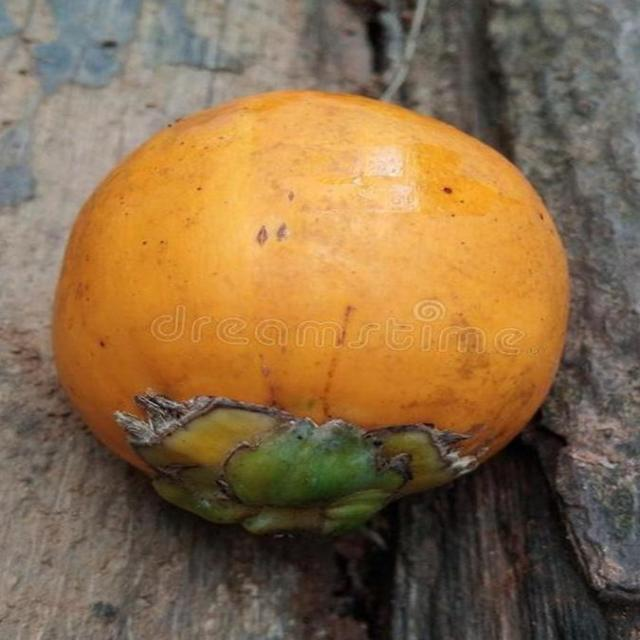good: (51, 90, 572, 539)
